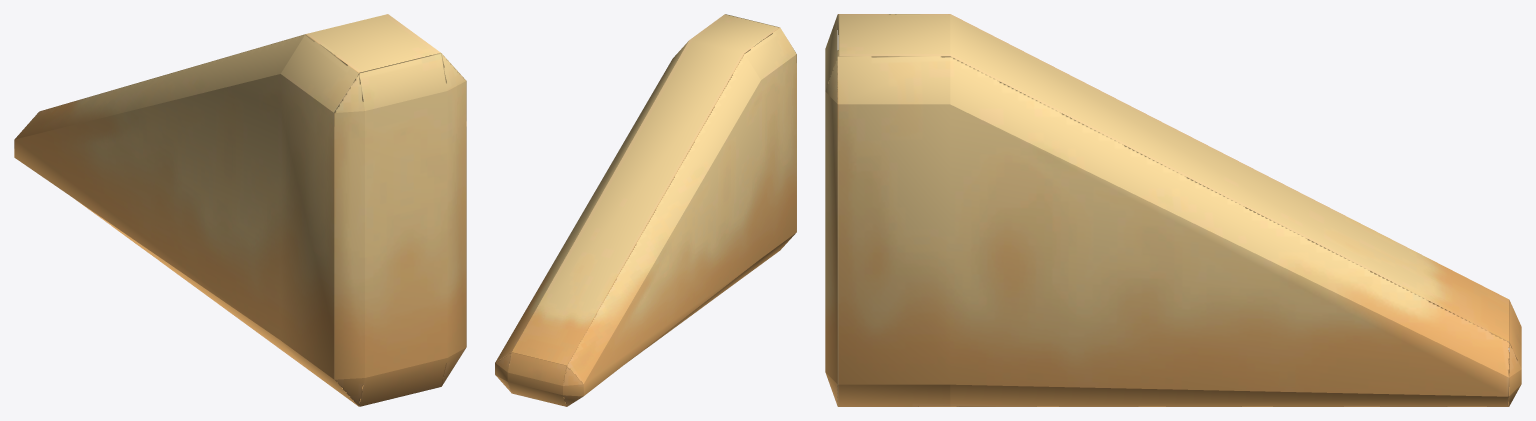
File: TopPathSlope.fbx
The picture shows the model from 3 angles, left to right: view 1: azimuth 30°, elevation 25°; view 2: azimuth 150°, elevation 25°; view 3: azimuth 270°, elevation 25°; orthographic projection. The views are drawn at different scales.
Parts seen in each view (by area): view 1: Cube.003; view 2: Cube.003; view 3: Cube.003.
Boxes of the visible parts, <box> form: Cube.003: <box>14,14,466,406</box>; Cube.003: <box>495,14,796,406</box>; Cube.003: <box>825,14,1521,406</box>.
Size of the model in its own units: 425 by 1021 by 1836.
